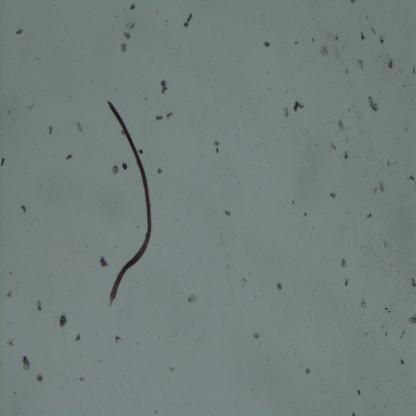Air bubble: (121, 162, 128, 171)
Background material: (366, 93, 380, 113), (180, 12, 195, 30), (371, 180, 385, 194), (185, 293, 199, 306), (338, 118, 348, 134), (250, 330, 262, 343), (99, 256, 110, 270), (238, 276, 249, 290), (59, 312, 68, 329), (386, 57, 396, 72), (319, 43, 329, 58), (160, 79, 168, 97), (125, 19, 137, 31), (293, 100, 305, 112), (22, 356, 31, 372), (356, 57, 365, 72), (110, 165, 120, 176), (328, 191, 338, 202), (65, 152, 75, 162), (154, 112, 164, 122), (35, 373, 45, 383), (120, 41, 128, 53), (409, 276, 416, 289), (282, 106, 289, 119), (37, 297, 43, 312), (165, 110, 173, 121), (124, 30, 132, 41), (264, 38, 271, 50), (340, 256, 347, 268), (76, 121, 83, 133), (305, 366, 312, 378), (407, 315, 416, 324), (15, 27, 24, 36), (354, 388, 362, 398), (342, 150, 350, 160), (6, 338, 14, 348), (379, 32, 385, 45), (214, 140, 220, 153), (359, 32, 366, 43), (361, 298, 368, 309), (29, 100, 36, 111), (223, 209, 232, 217), (398, 356, 406, 365), (329, 141, 337, 150), (278, 280, 284, 292), (77, 375, 86, 383), (48, 124, 53, 137), (370, 27, 378, 35), (169, 365, 176, 374), (156, 166, 163, 175), (75, 333, 81, 343), (344, 277, 350, 287), (408, 175, 416, 182), (129, 3, 136, 11), (115, 334, 122, 342), (6, 290, 13, 298), (22, 204, 27, 215), (366, 212, 372, 221), (138, 148, 145, 155), (0, 158, 6, 166), (302, 210, 308, 218), (384, 308, 391, 314), (412, 64, 416, 74), (349, 0, 357, 3)
Microfibre: (104, 101, 153, 308)
